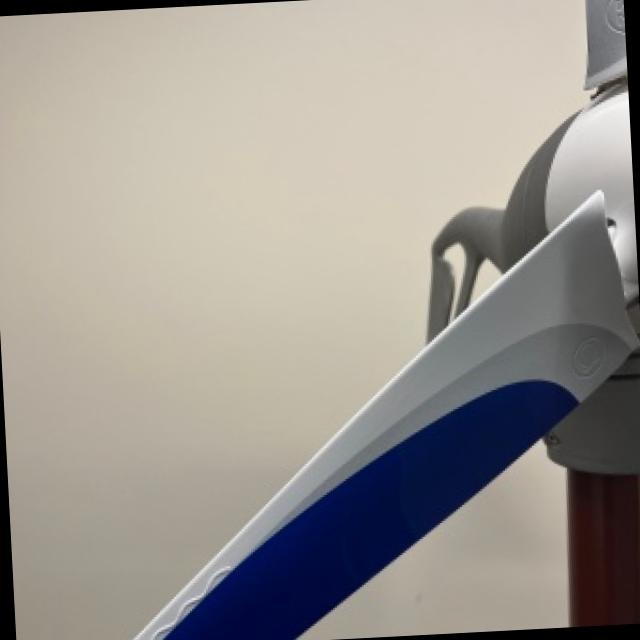healthy: (464, 468, 560, 623)
